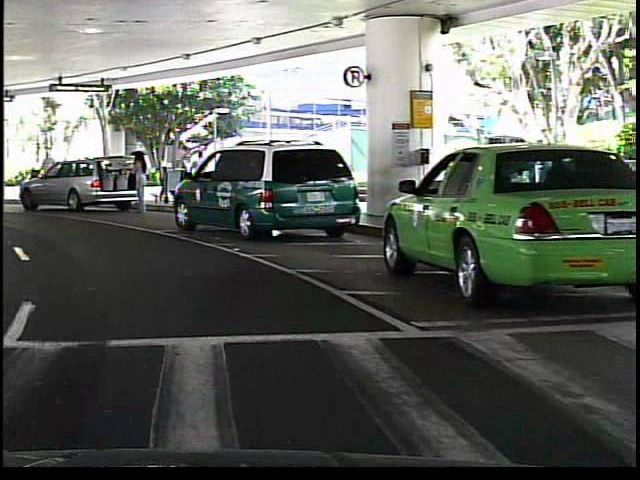person: (128, 147, 147, 219), (146, 154, 169, 212), (33, 147, 57, 199)
